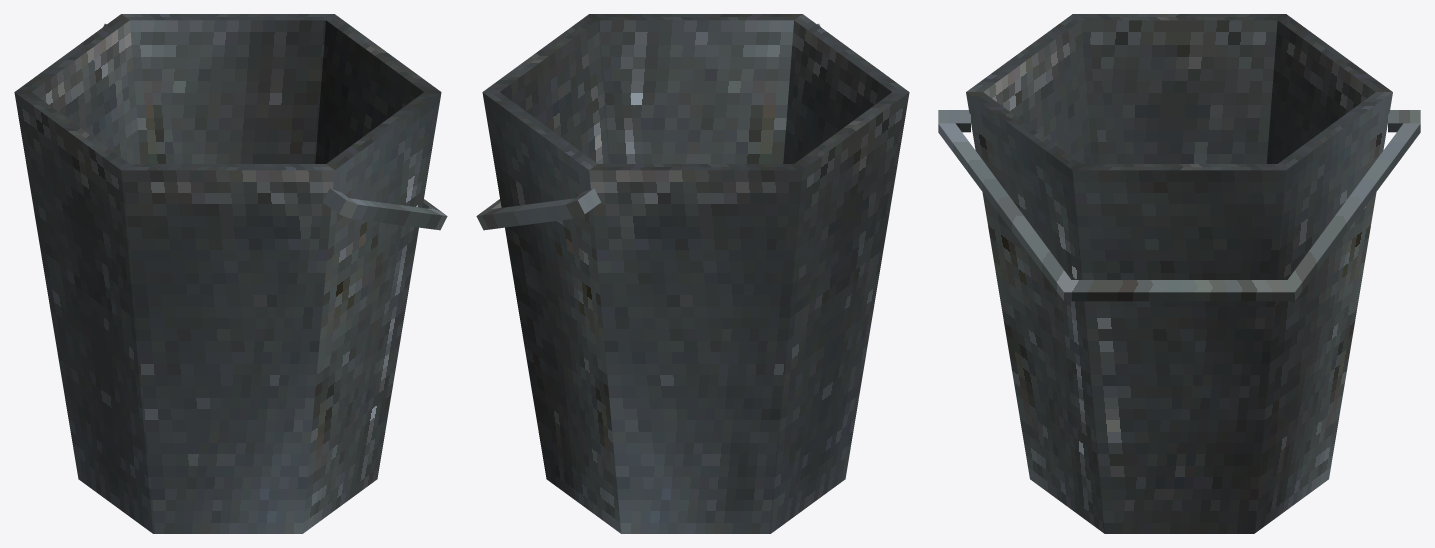
Rendered from Bucket01.obj.
3 renders of one model, left to right at view 1: azimuth 30°, elevation 25°; view 2: azimuth 150°, elevation 25°; view 3: azimuth 270°, elevation 25°, orthographic.
Visible parts, largest first — view 1: Bucket01, Bucket01.Handle; view 2: Bucket01, Bucket01.Handle; view 3: Bucket01, Bucket01.Handle.
Boxes of the visible parts, box(x1,y1,x2,y2) form: Bucket01: box(14, 14, 441, 533); Bucket01.Handle: box(103, 23, 447, 230); Bucket01: box(482, 14, 909, 533); Bucket01.Handle: box(476, 23, 820, 230); Bucket01: box(966, 14, 1392, 533); Bucket01.Handle: box(938, 110, 1420, 301).
Size of the model in its own units: 0.4702 by 0.54 by 0.6102.
